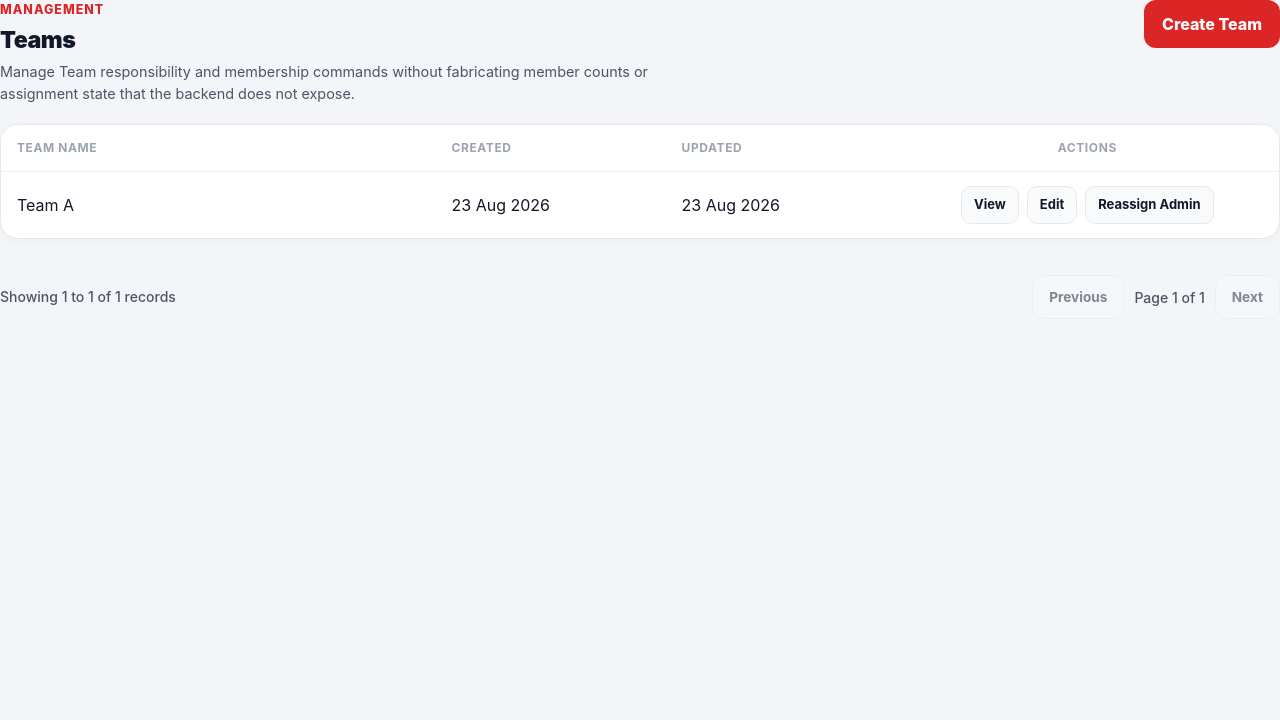
Test case: TeamList › renames Team and avoids unchanged PATCH through disabled save
The image size is (1280, 720).
Click the button "Edit" at coordinates (1052, 205), box [1027,186,1077,224]
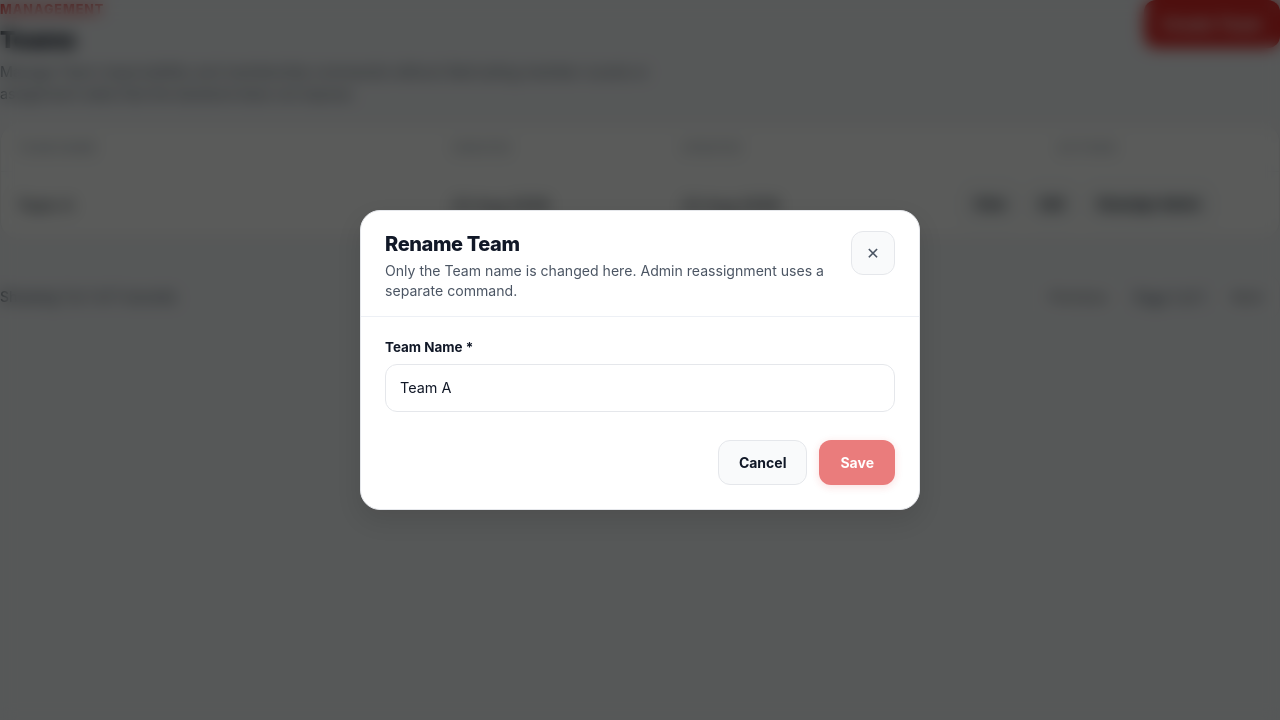
Expected: the button "Save" is disabled, [820,440,895,485]
